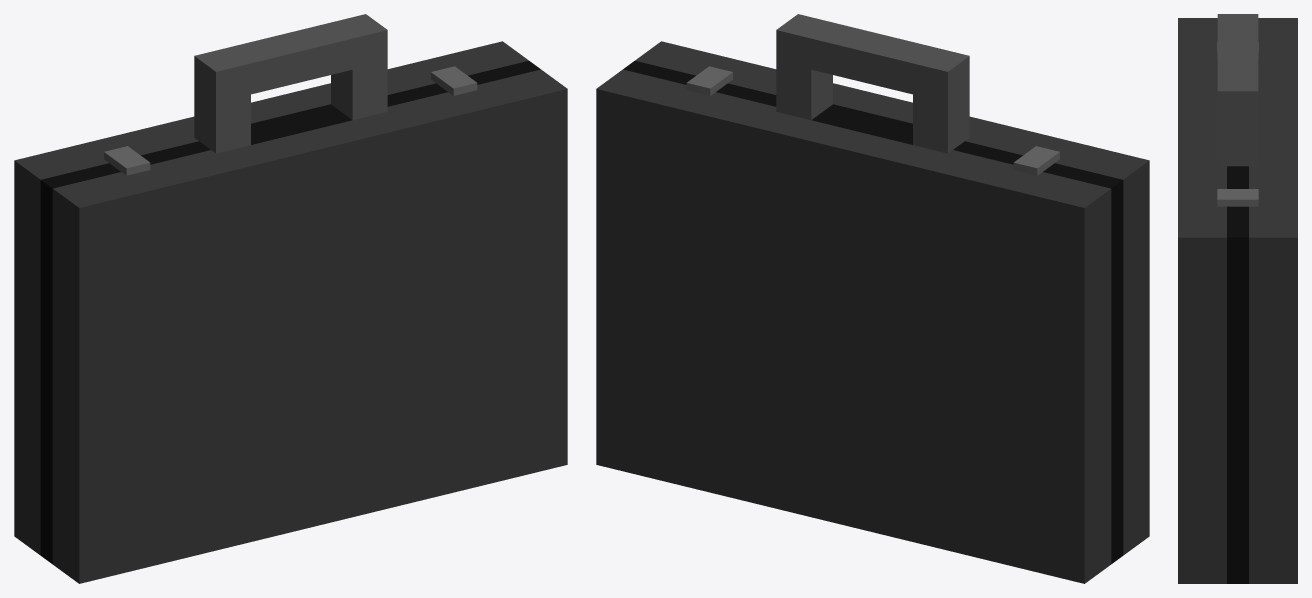
File: BriefcaseGrey.fbx
3 views of the same model, side by side, from view 1: azimuth 30°, elevation 25°; view 2: azimuth 150°, elevation 25°; view 3: azimuth 270°, elevation 25° (orthographic). The views are drawn at different scales.
Visible parts, largest first — view 1: BriefcaseGrey; view 2: BriefcaseGrey; view 3: BriefcaseGrey.
Boxes of the visible parts, x1,y1,x2,y2 form: BriefcaseGrey: [14, 14, 567, 583]; BriefcaseGrey: [596, 14, 1149, 583]; BriefcaseGrey: [1178, 14, 1297, 583].
Bounding box in the file's own units: 0.7071 × 0.6332 × 0.1631.
